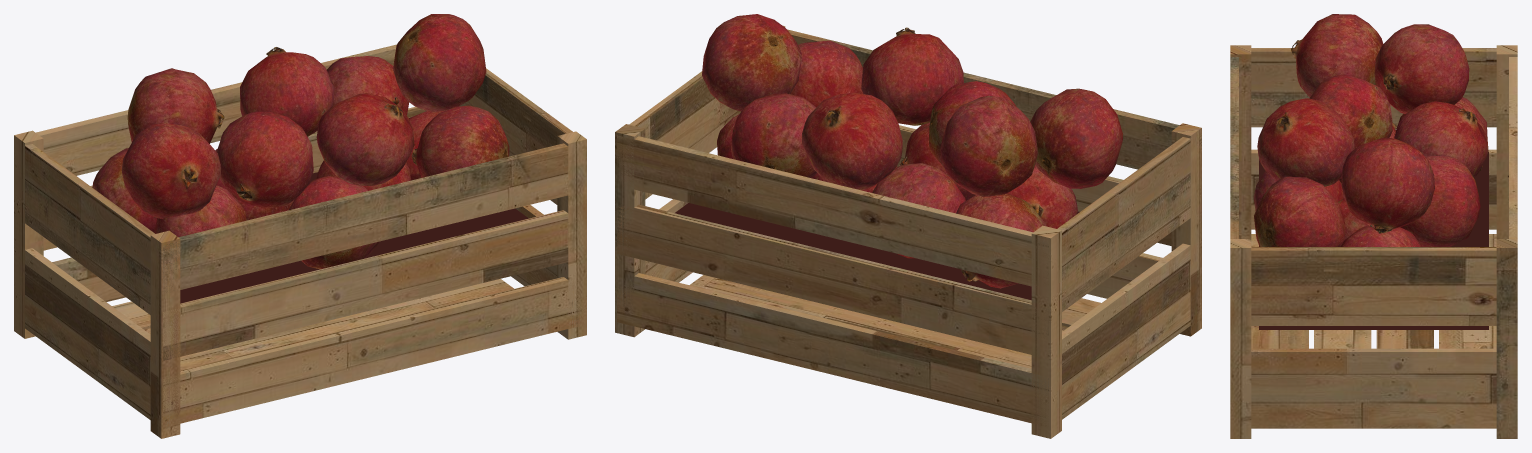
The model's file is skrzynka_granaty.glb.
The picture shows the model from 3 angles, left to right: view 1: azimuth 30°, elevation 25°; view 2: azimuth 150°, elevation 25°; view 3: azimuth 270°, elevation 25°; orthographic projection. The views are drawn at different scales.
Visible parts, largest first — view 1: skrzynka, granaty, dno; view 2: skrzynka, granaty, dno; view 3: skrzynka, granaty, dno.
Part boxes in pixels (x1,y1,x2,y2): skrzynka: (14, 44, 586, 438); granaty: (92, 14, 509, 269); dno: (180, 172, 528, 303); skrzynka: (615, 25, 1201, 438); granaty: (702, 14, 1123, 288); dno: (674, 203, 1079, 300); skrzynka: (1230, 45, 1517, 438); granaty: (1253, 14, 1488, 246); dno: (1259, 152, 1488, 329).
Bounding box in the file's own units: 0.5 × 0.3074 × 0.3.
3 materials, 3 textured.
